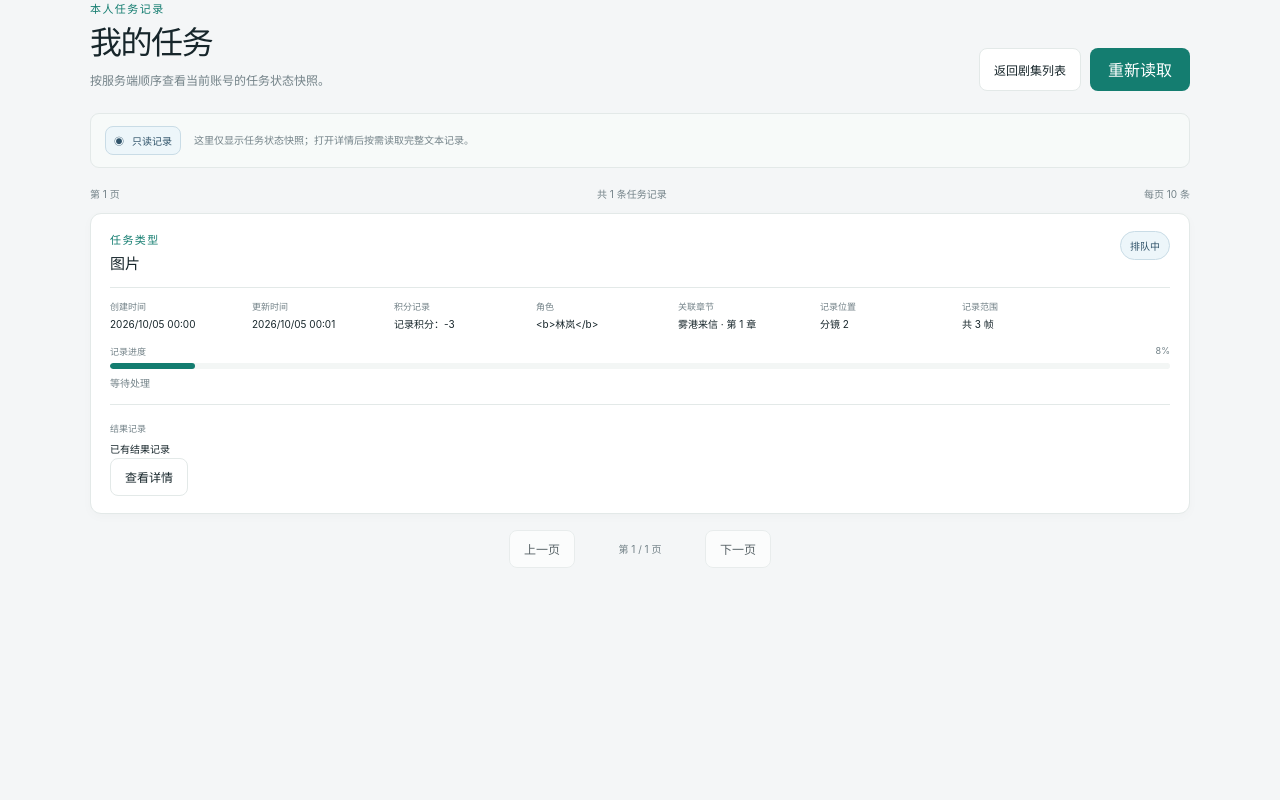
Test: read-only task page › observes active task progress serially, keeps the open detail stable, and stops at terminal status
The width and height of the screenshot is (1280, 800).
Click the button with aria-label "查看详情：图片" at (149, 477), box [110, 458, 188, 496]
Wait 24000 ms
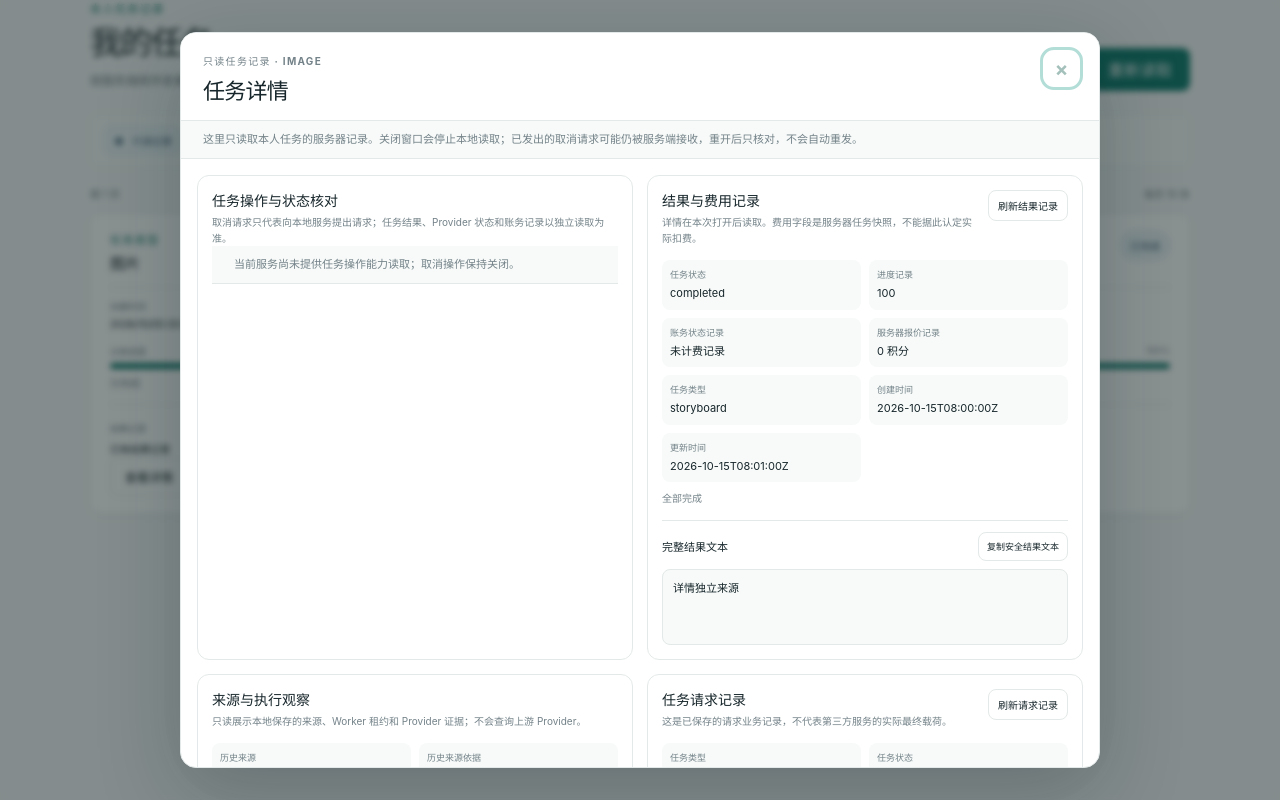
Expected: the dialog "任务详情" is shown
Expected: the text "详情独立来源" is shown, [662, 568, 1068, 644]
